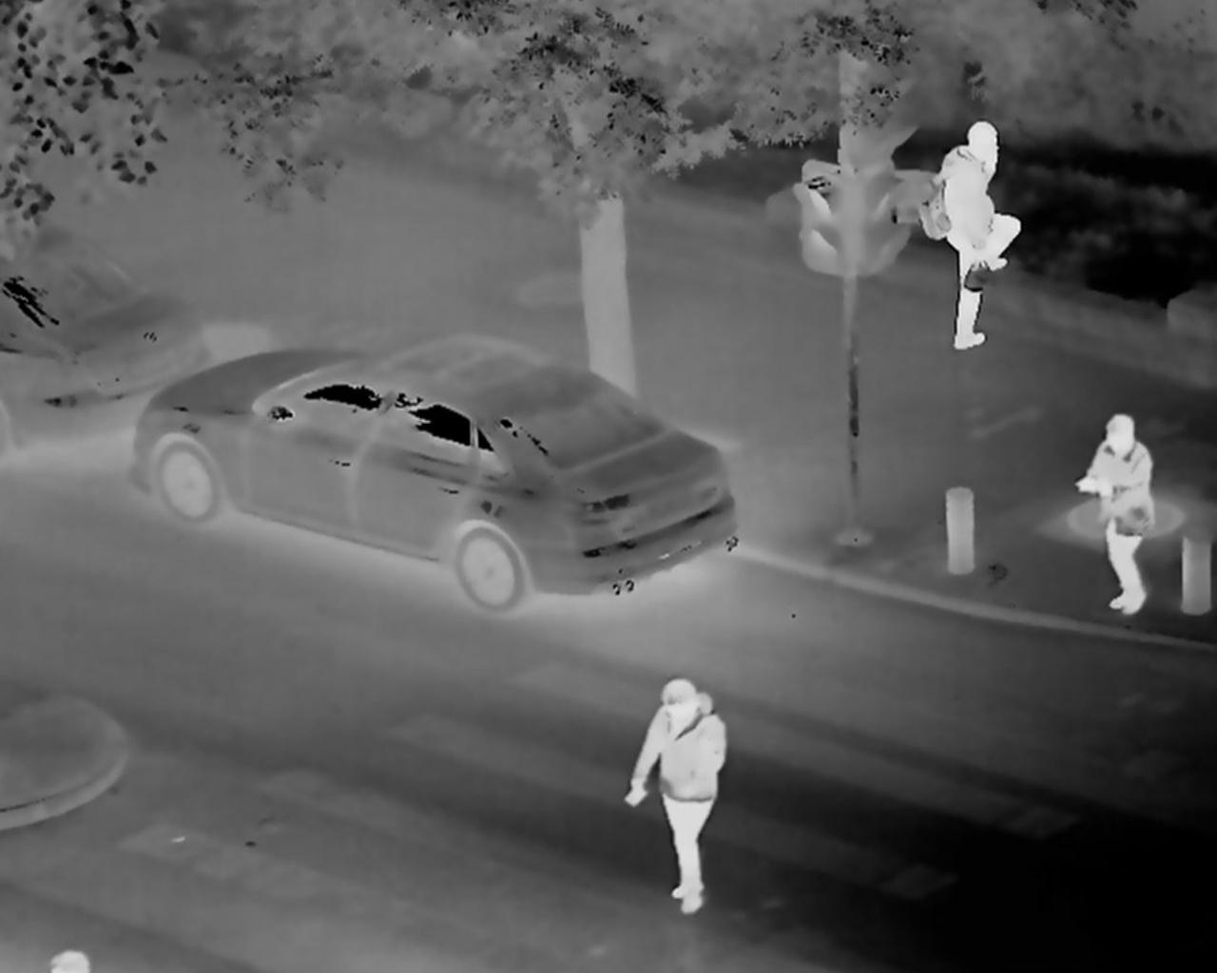person: (612, 671, 744, 917), (915, 114, 1030, 360), (1069, 411, 1169, 628)
